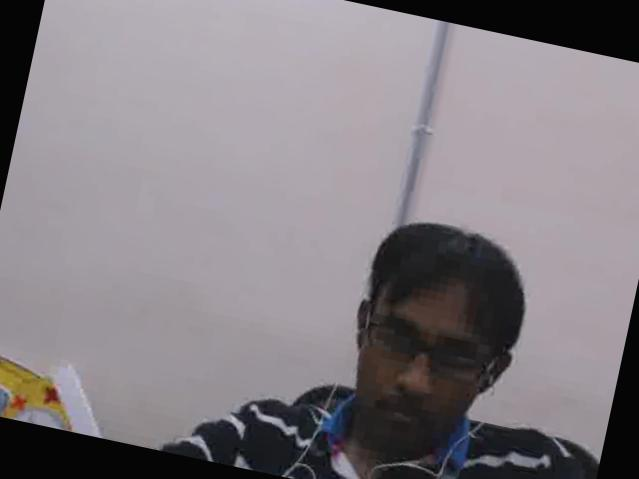bosan: (338, 275, 501, 468)
